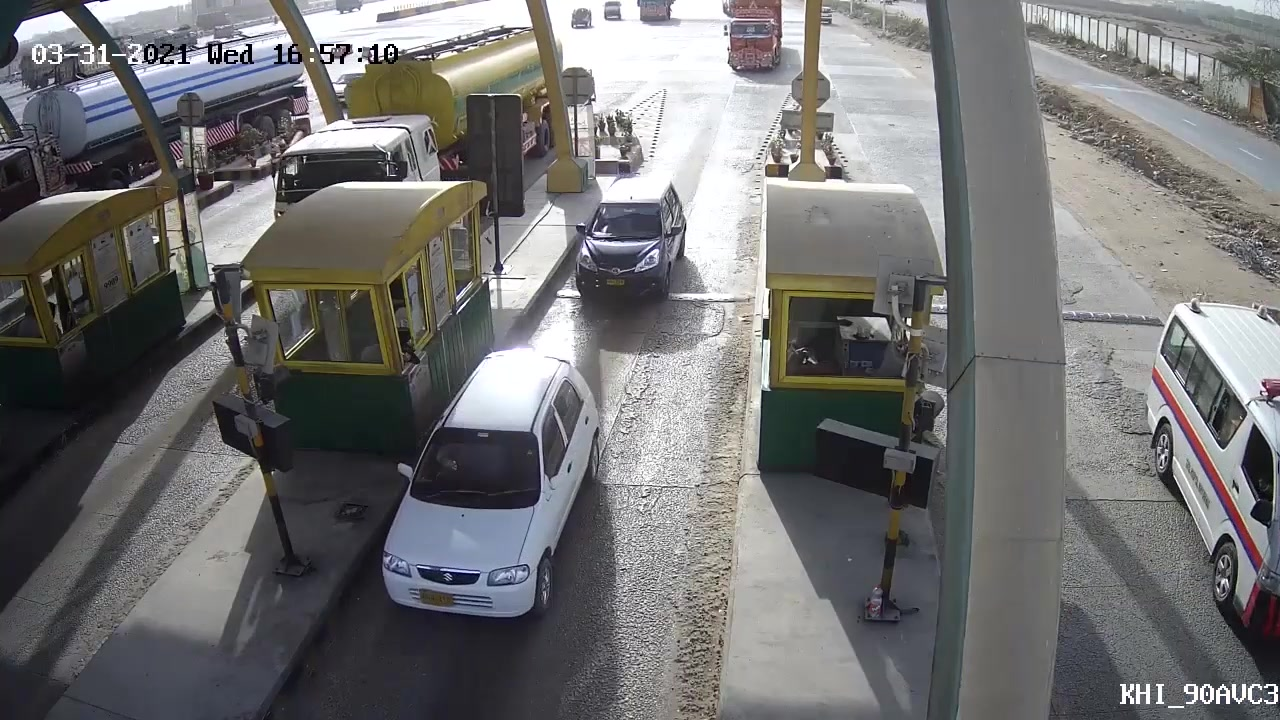F1: (372, 342, 612, 626), (563, 166, 690, 301)
